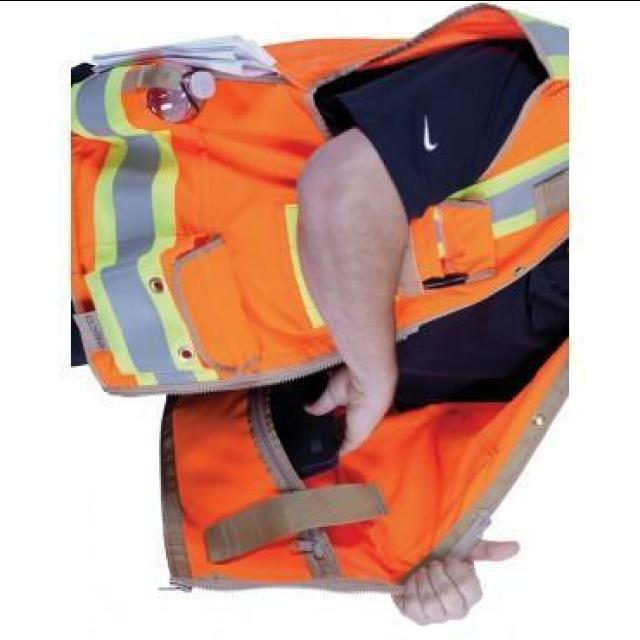jacket: (65, 1, 580, 621)
